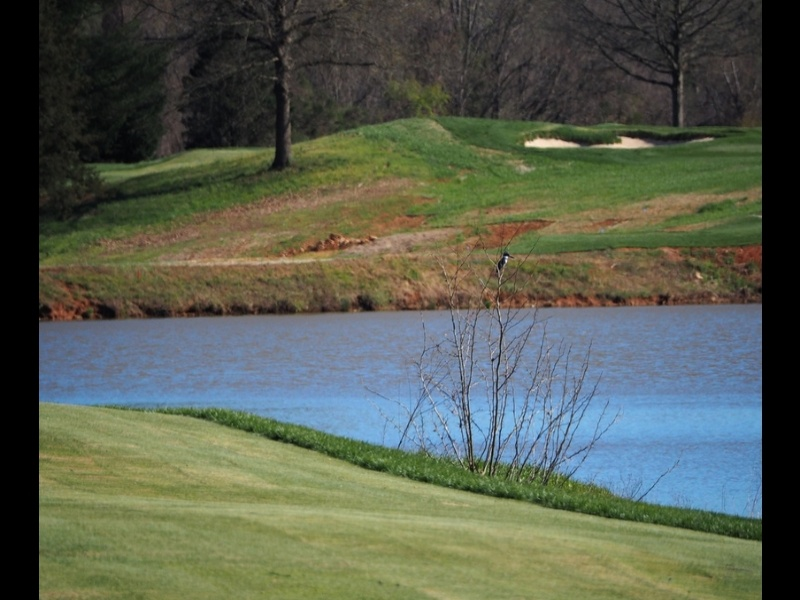kingfisher: (492, 248, 515, 280)
